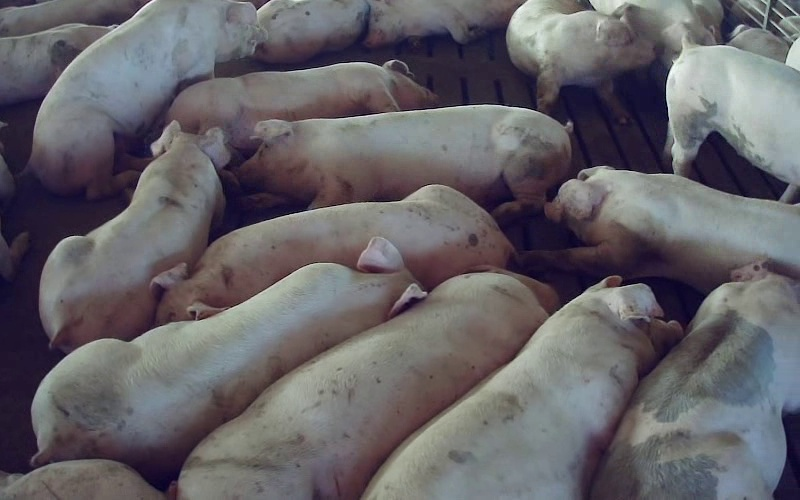pig: (32, 237, 423, 479), (179, 266, 556, 499), (364, 276, 681, 499), (152, 185, 514, 324), (591, 263, 799, 499), (39, 121, 229, 352), (238, 105, 570, 220), (520, 167, 799, 292), (167, 60, 436, 151), (665, 38, 799, 202), (507, 0, 654, 123), (363, 0, 523, 47), (254, 0, 369, 63)
